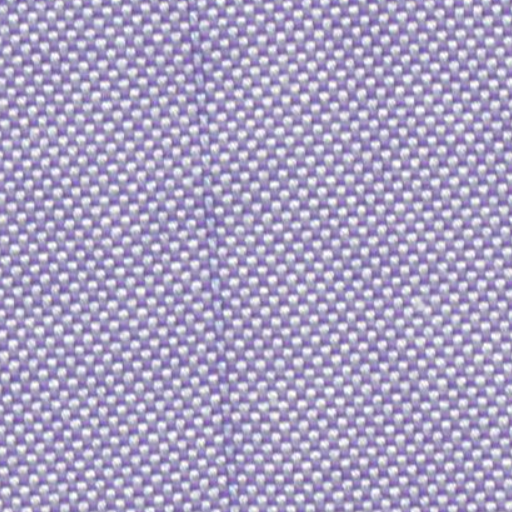TuoSha: (172, 10, 256, 502)
